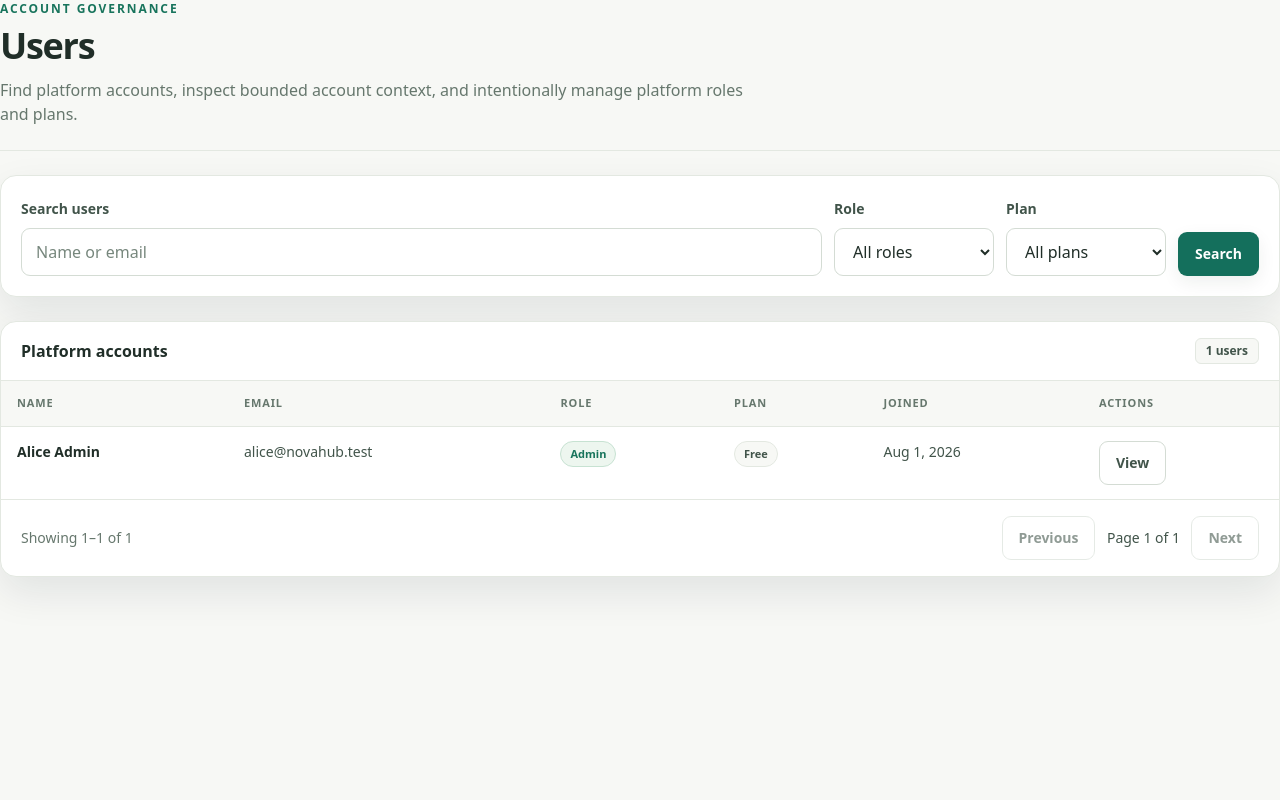
Scenario: admin users › reviews and confirms an intentional role and plan update
This screenshot has width=1280, height=800.
Click the button with aria-label "View Alice Admin" at (1133, 462), box [1099, 440, 1166, 484]
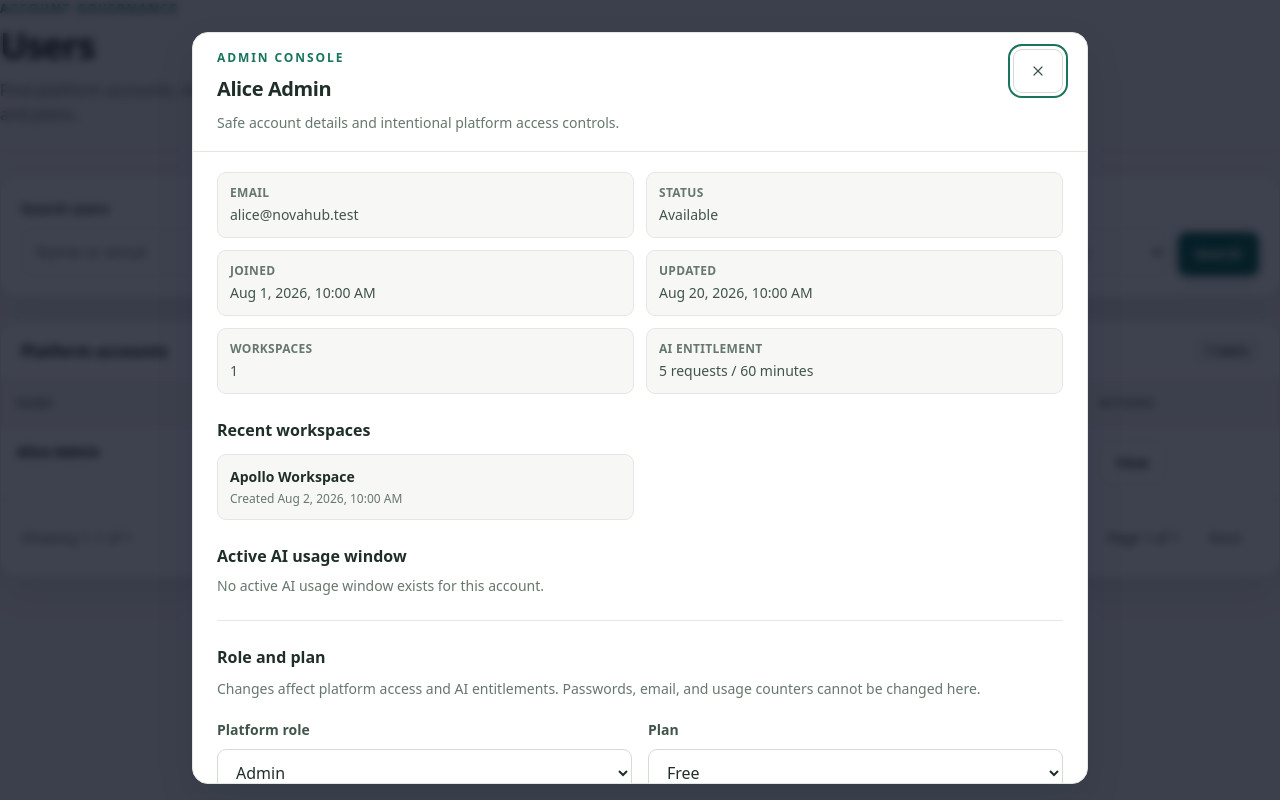
Select "User" in the dropdown labelled "Platform role" at (424, 773), box [217, 749, 632, 797]
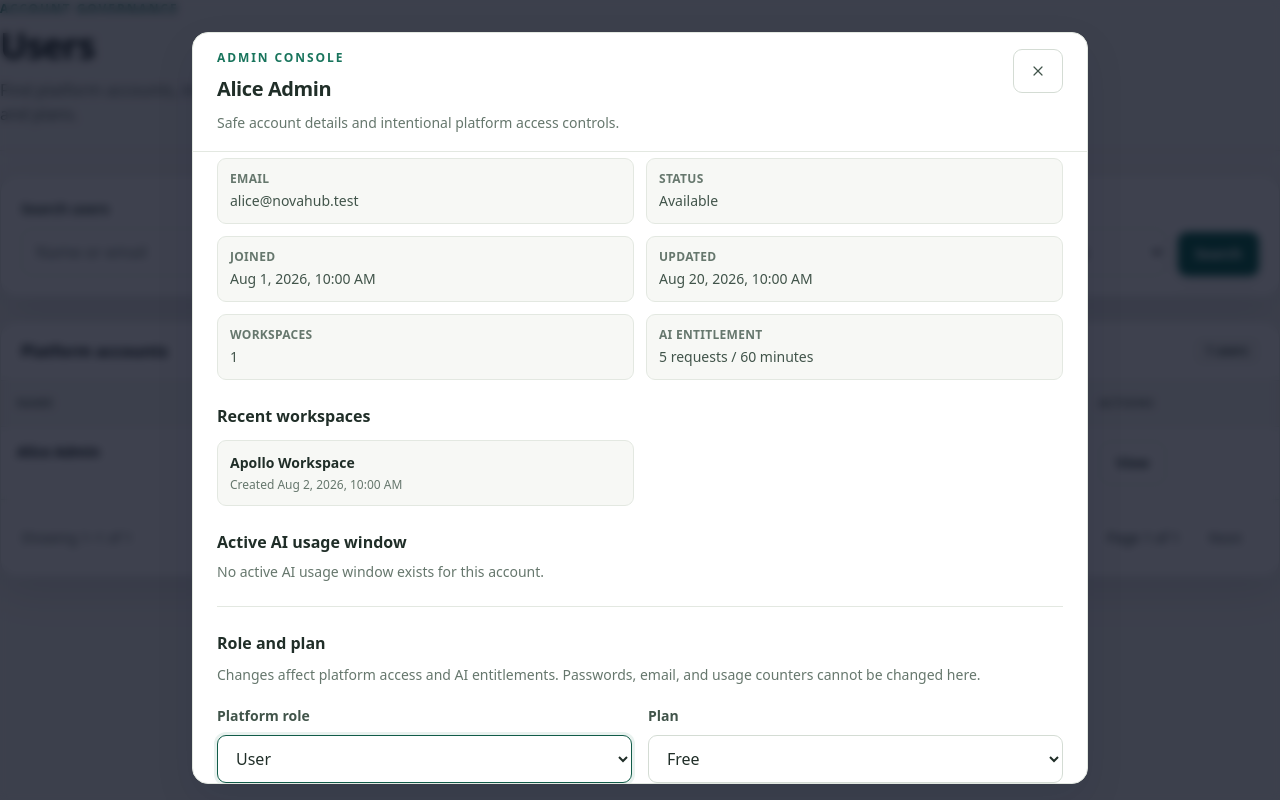
Select "Premium" in the dropdown labelled "Plan" at (856, 759), box [648, 735, 1063, 783]
(page scrolled)
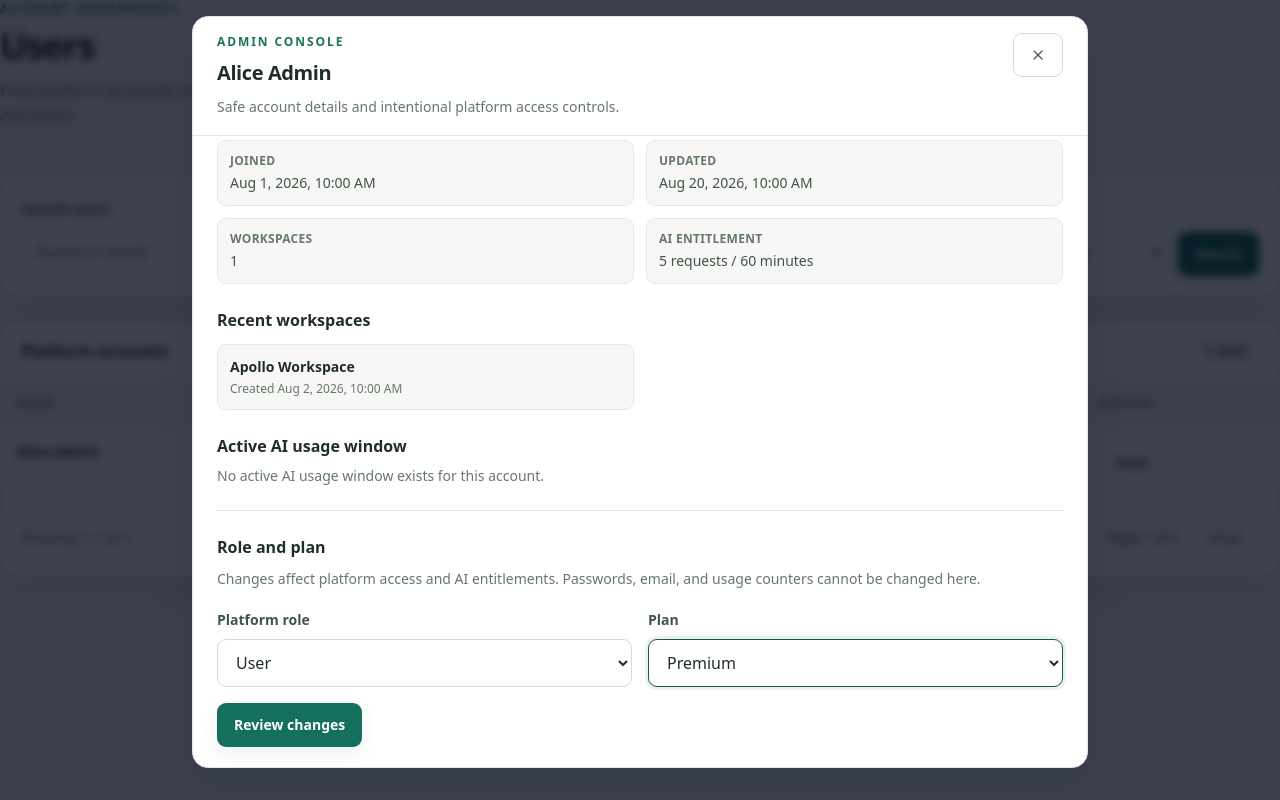
Click the button "Review changes" at (290, 725), box [217, 703, 362, 747]
(page scrolled)
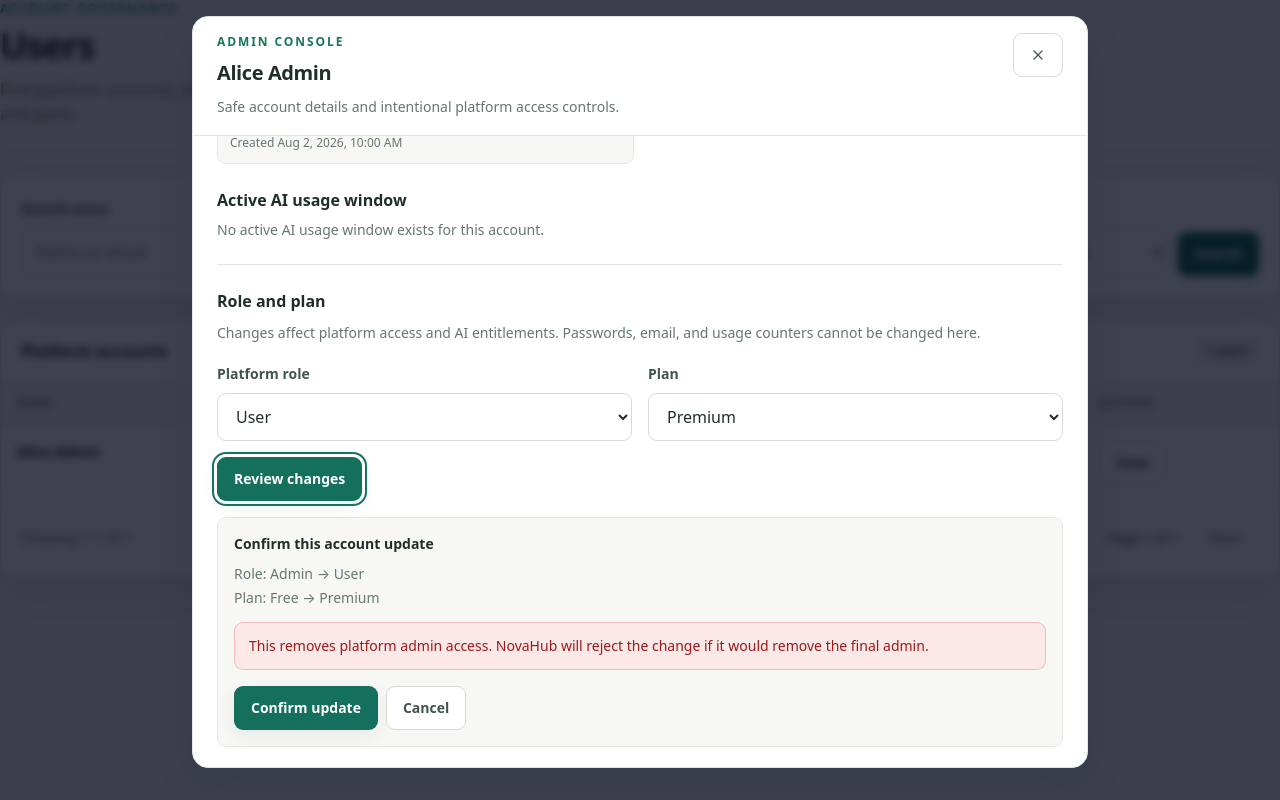
Click the button "Confirm update" at (306, 708), box [234, 686, 378, 730]
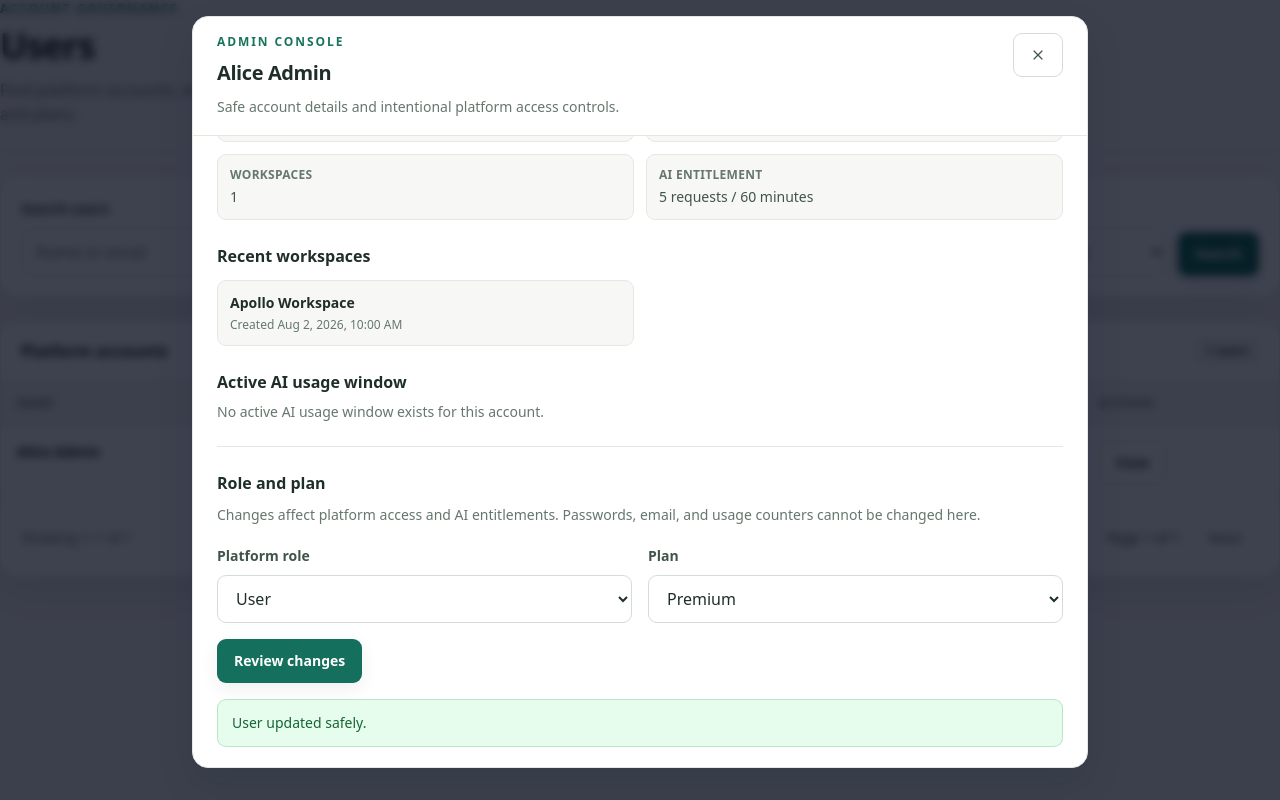
Result: the text "User updated safely." is shown at [217, 699, 1063, 747]
